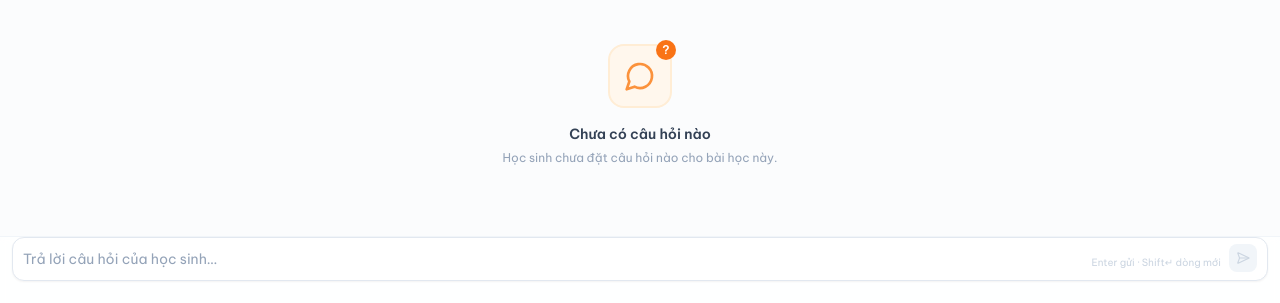
Test: ChatPanel › sends message and appends to list
expect the text "Chưa có câu hỏi nào" is shown: met, box [569, 125, 711, 143]
Type "hello" into the text box at (553, 259), box [23, 244, 1084, 274]
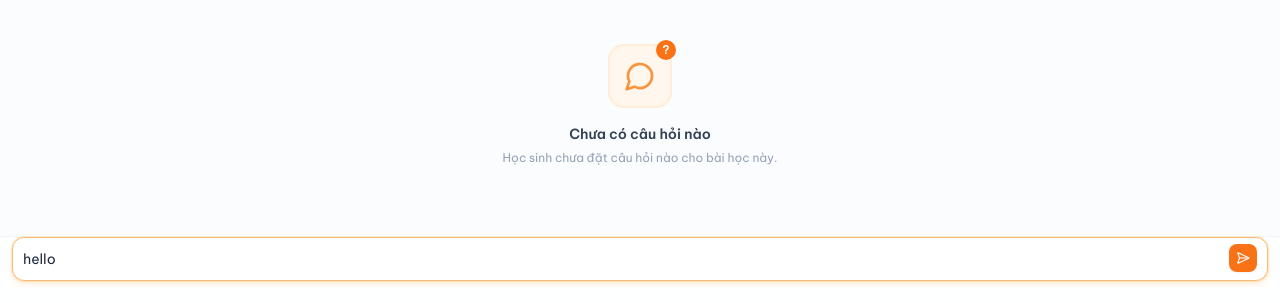
Click the button named "Gửi" at (1243, 258), box [1229, 244, 1257, 272]
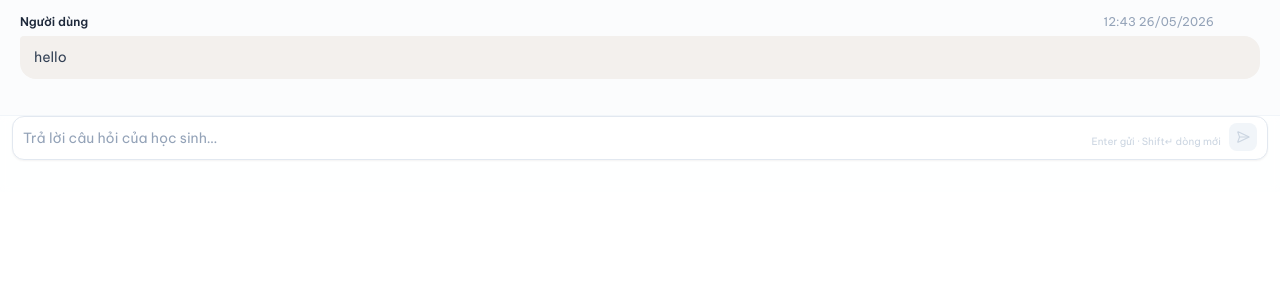
expect the text "hello" is shown: met, box [34, 48, 67, 66]
